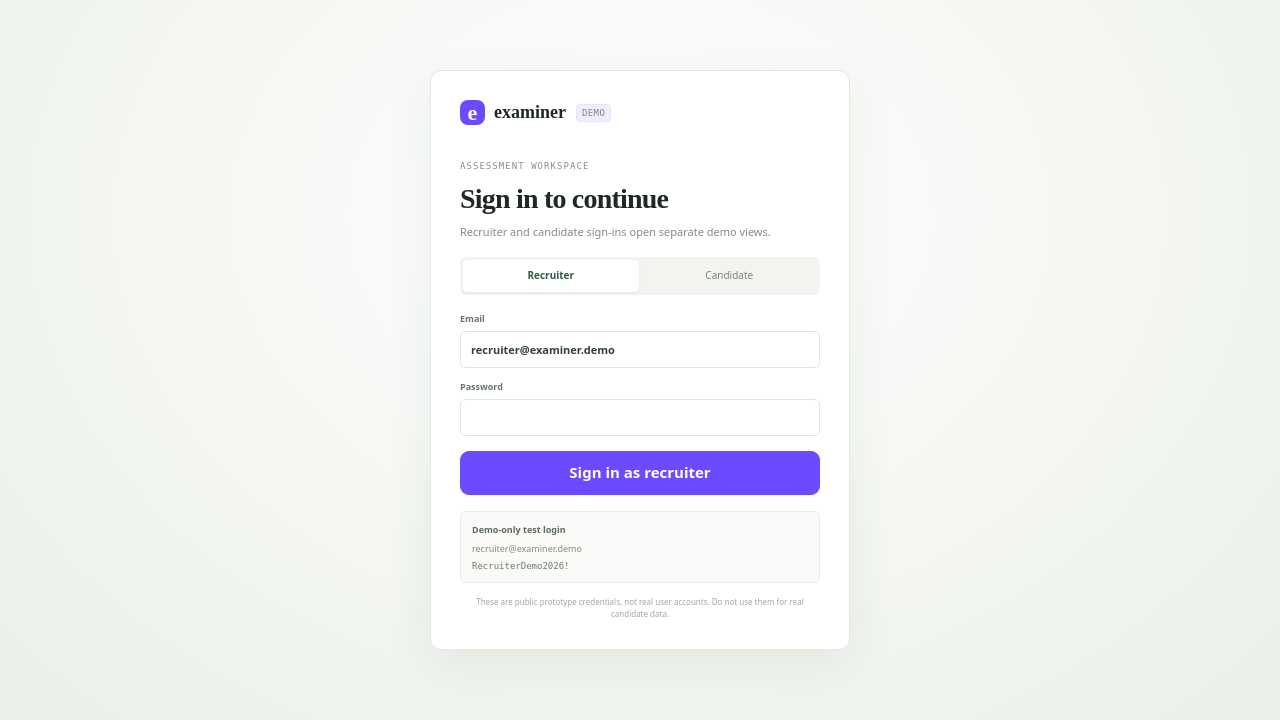
Test: separate demo login views › allows the recruiter demo account into the recruiter workspace only
This screenshot has width=1280, height=720.
In the password field labelled "Password": (640, 418) [460,399,820,436], type "RecruiterDemo2026!"
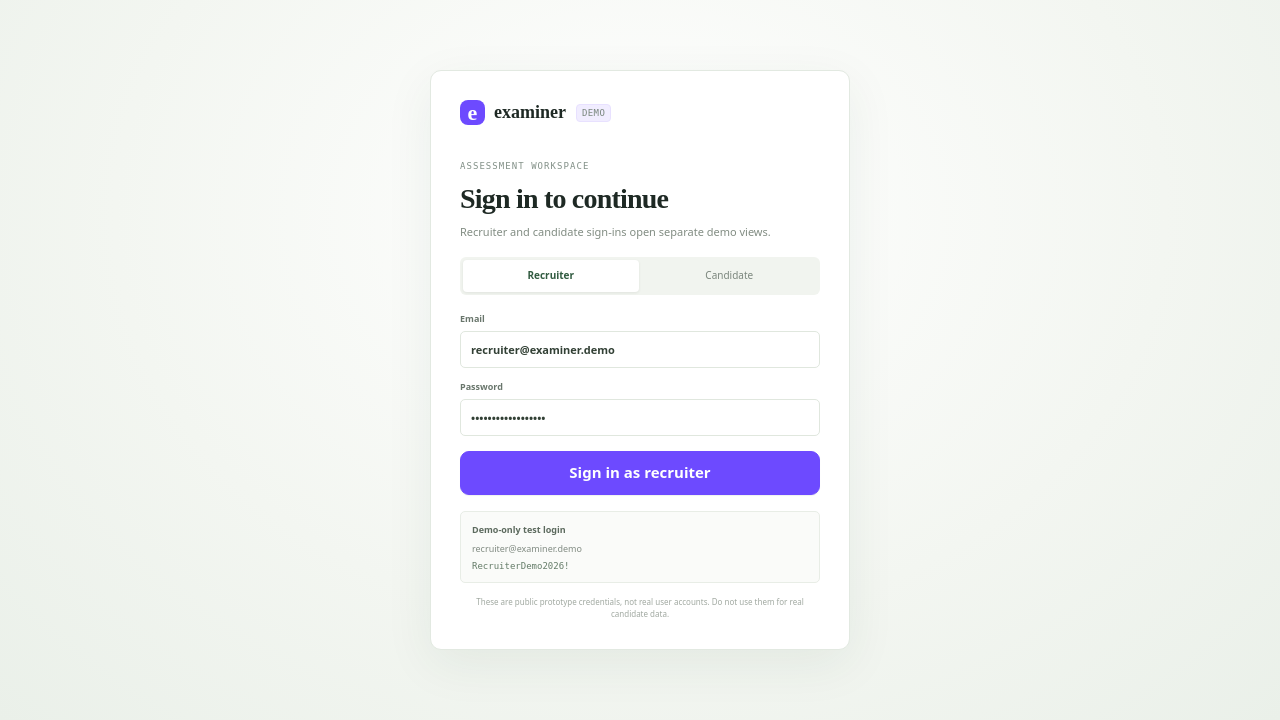
Click the button "Sign in as recruiter": (640, 473) [460,451,820,495]
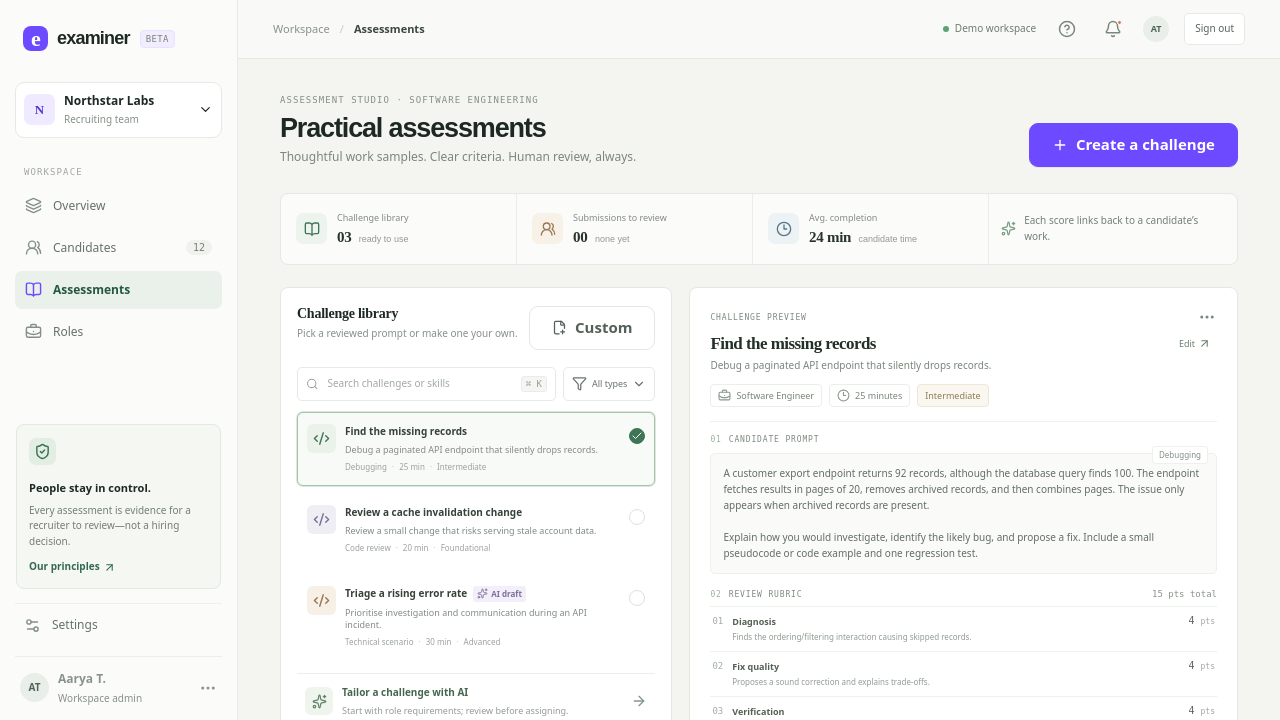
Check: the heading "Practical assessments" is shown, box [280,113,546,143]
